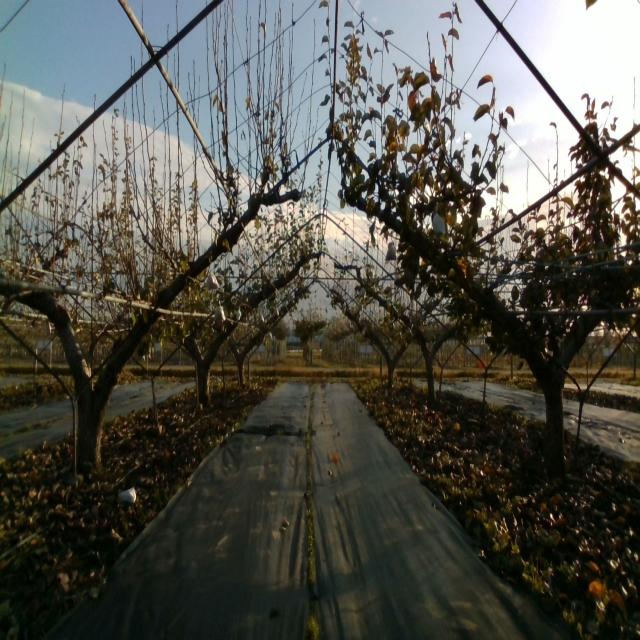pearbags: (432, 212, 446, 238), (206, 270, 219, 290), (214, 301, 225, 323)
